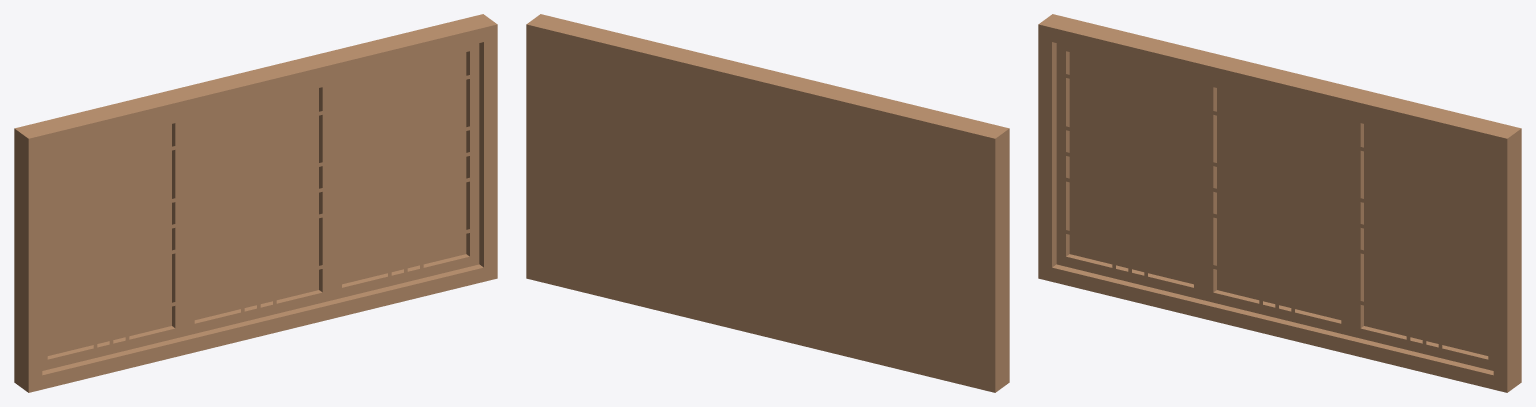
File: Village_Window_A.fbx
3 renders of one model, left to right at view 1: azimuth 30°, elevation 25°; view 2: azimuth 150°, elevation 25°; view 3: azimuth 330°, elevation 25°, orthographic.
Parts seen in each view (by area): view 1: Window_Set_A2; view 2: Window_Set_A2; view 3: Window_Set_A2.
Part boxes in pixels (x1,y1,x2,y2): Window_Set_A2: [14, 14, 497, 392]; Window_Set_A2: [526, 14, 1009, 392]; Window_Set_A2: [1038, 14, 1521, 392].
Size of the model in its own units: 177 by 91.71 by 9.31.
